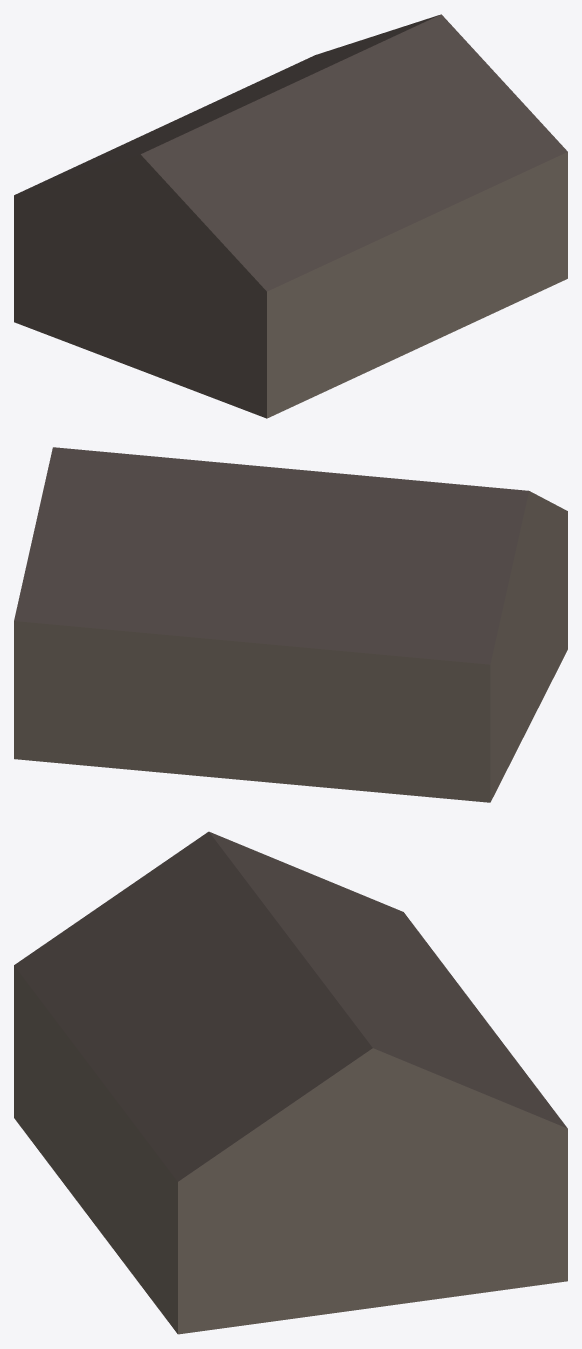
The picture shows the model from 3 angles, top to bottom: view 1: azimuth 30°, elevation 25°; view 2: azimuth 150°, elevation 25°; view 3: azimuth 270°, elevation 25°; orthographic projection. The views are drawn at different scales.
Parts seen in each view (by area): view 1: HP-w859457364; view 2: HP-w859457364; view 3: HP-w859457364.
Part boxes in pixels (left/top/right/bottom): HP-w859457364: left=14, top=14, right=567, bottom=418; HP-w859457364: left=14, top=447, right=567, bottom=802; HP-w859457364: left=14, top=831, right=567, bottom=1334.
Bounding box in the file's own units: 22.76 × 10.22 × 19.75.
